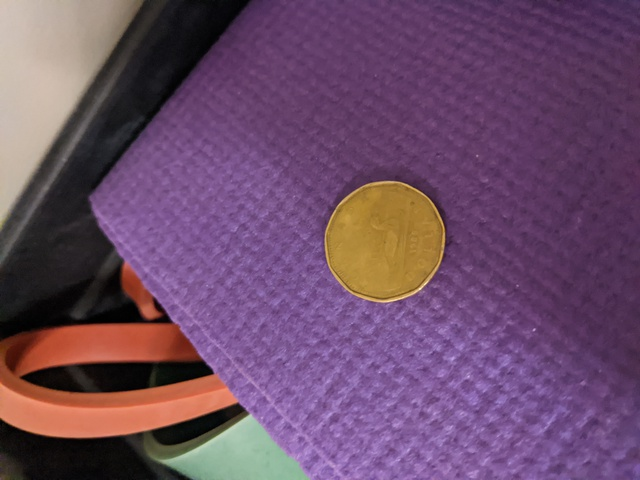loonie: (304, 171, 462, 316)
